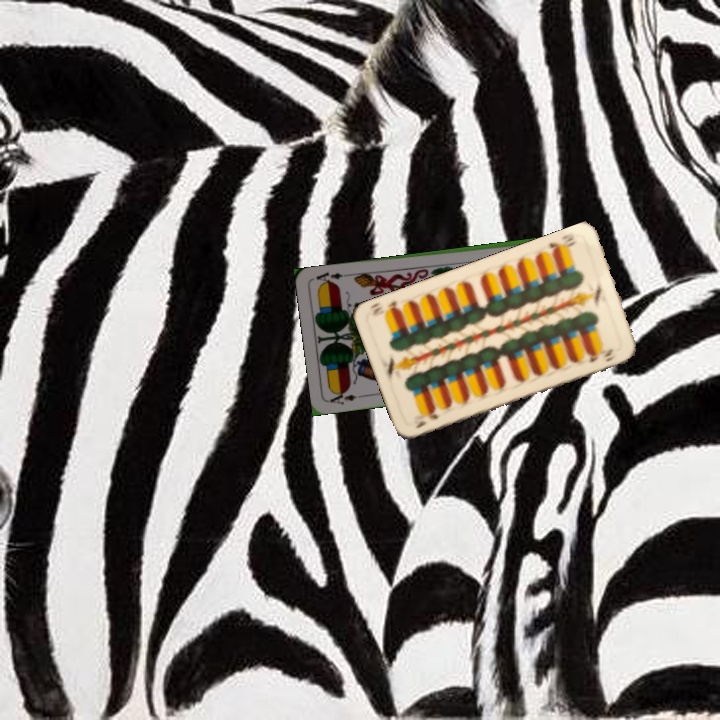E10: (545, 229, 580, 257), (412, 407, 441, 431)
EA: (326, 387, 366, 408)
